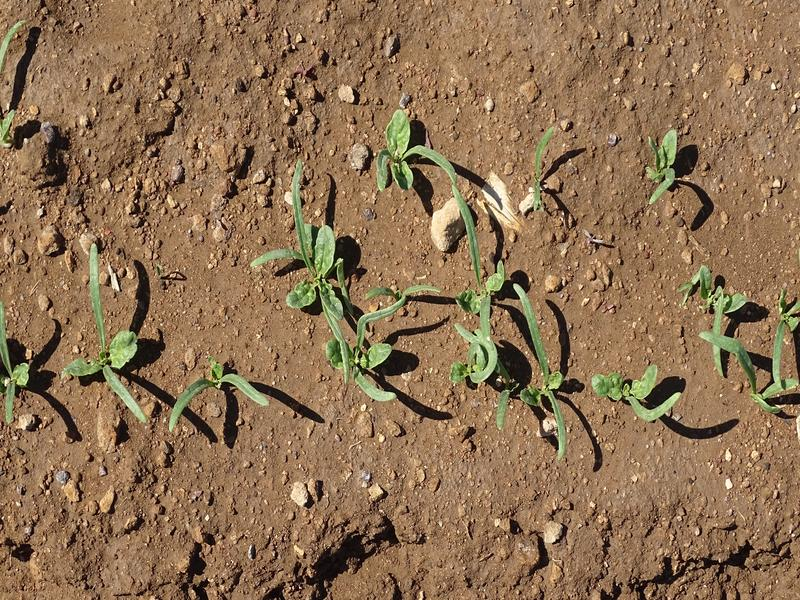Espinaca: (281, 118, 575, 461), (74, 248, 155, 434), (702, 264, 800, 416), (170, 355, 266, 441), (590, 358, 676, 419), (647, 129, 685, 195)
